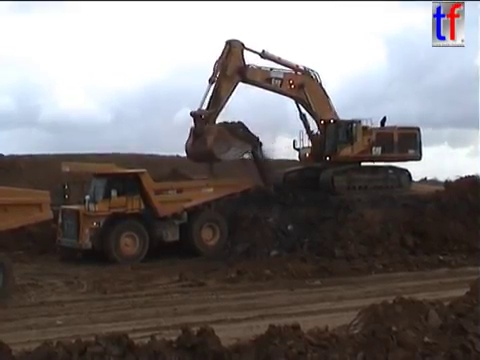excavator: (182, 37, 425, 202)
truck: (54, 159, 253, 265), (1, 179, 55, 304)
